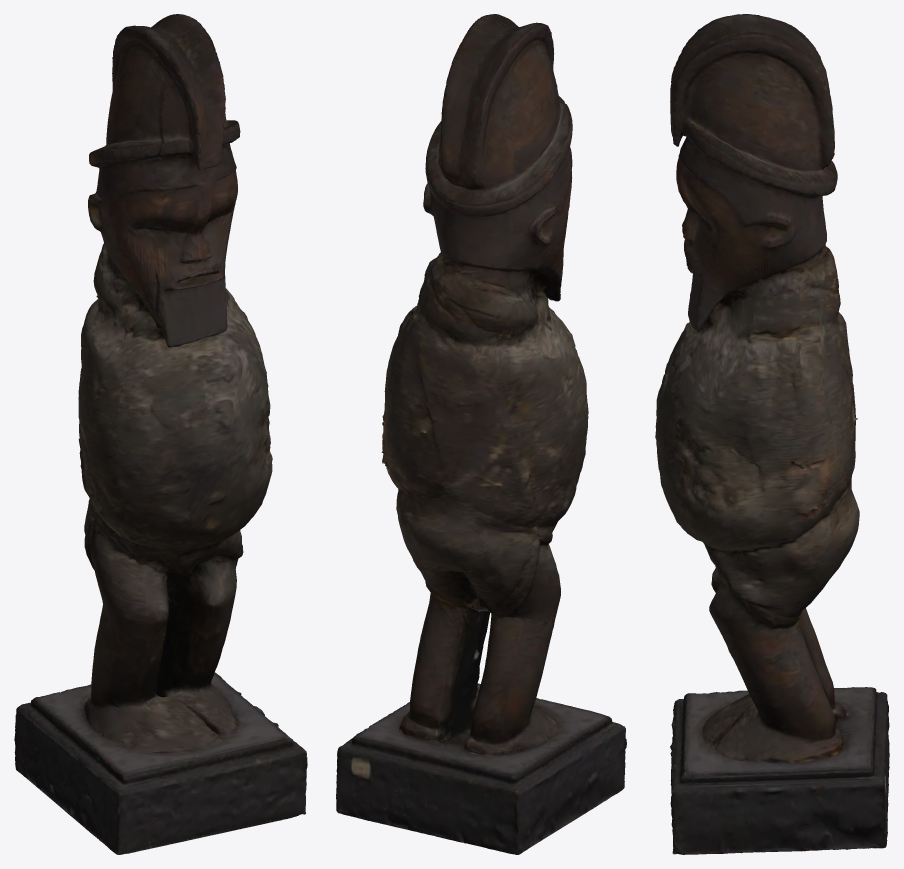
File: preview.glb
The picture shows the model from 3 angles, left to right: view 1: azimuth 30°, elevation 25°; view 2: azimuth 150°, elevation 25°; view 3: azimuth 270°, elevation 25°; orthographic projection.
Visible parts, largest first — view 1: ADVIMG_2019_477_3_RC_2_Model_4_n3d; view 2: ADVIMG_2019_477_3_RC_2_Model_4_n3d; view 3: ADVIMG_2019_477_3_RC_2_Model_4_n3d.
Boxes of the visible parts, x1,y1,x2,y2 form: ADVIMG_2019_477_3_RC_2_Model_4_n3d: [14, 14, 307, 854]; ADVIMG_2019_477_3_RC_2_Model_4_n3d: [336, 14, 626, 854]; ADVIMG_2019_477_3_RC_2_Model_4_n3d: [655, 14, 889, 854].
Bounding box in the file's own units: 0.1398 × 0.5443 × 0.1476.
Materials: 1 (1 with a texture image).
